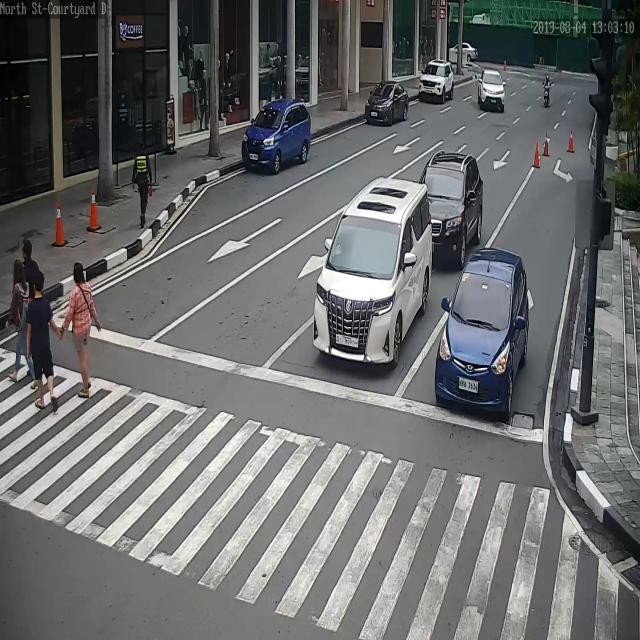car: (437, 247, 535, 411), (421, 147, 485, 269), (241, 98, 315, 171), (367, 81, 411, 128), (417, 60, 455, 105), (476, 68, 504, 111)
jeepney: (542, 75, 555, 108)
van: (315, 182, 434, 363)
